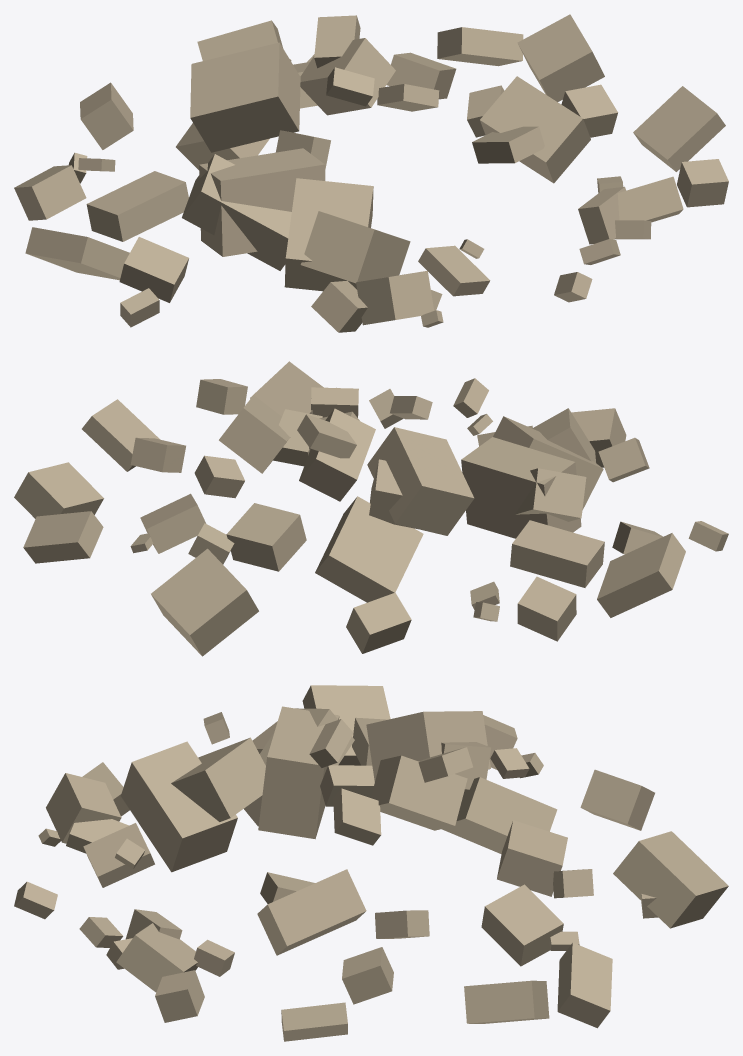
File: debris-pile.glb
3 renders of one model, top to bottom at view 1: azimuth 30°, elevation 25°; view 2: azimuth 150°, elevation 25°; view 3: azimuth 270°, elevation 25°, orthographic. The views are drawn at different scales.
Visible parts, largest first — view 1: debris-pile; view 2: debris-pile; view 3: debris-pile.
Boxes of the visible parts, x1,y1,x2,y2 form: debris-pile: (14, 14, 728, 332); debris-pile: (14, 361, 728, 656); debris-pile: (14, 685, 728, 1041).
Bounding box in the file's own units: 1.55 × 0.3759 × 1.42.
